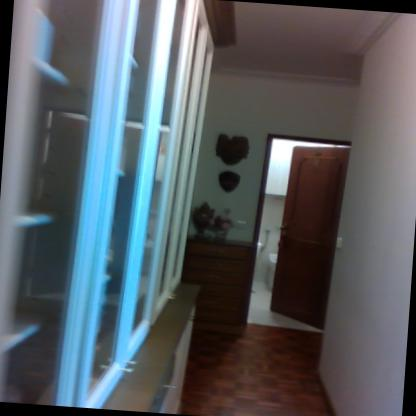semi: (238, 125, 358, 348)
